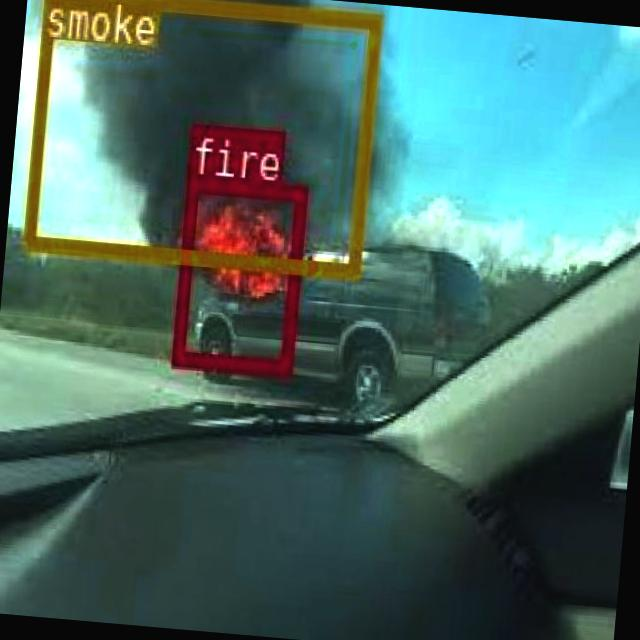fire: (170, 176, 303, 371)
smoke: (20, 0, 379, 274)
